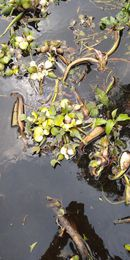water_hyacinth: (1, 1, 129, 196)
